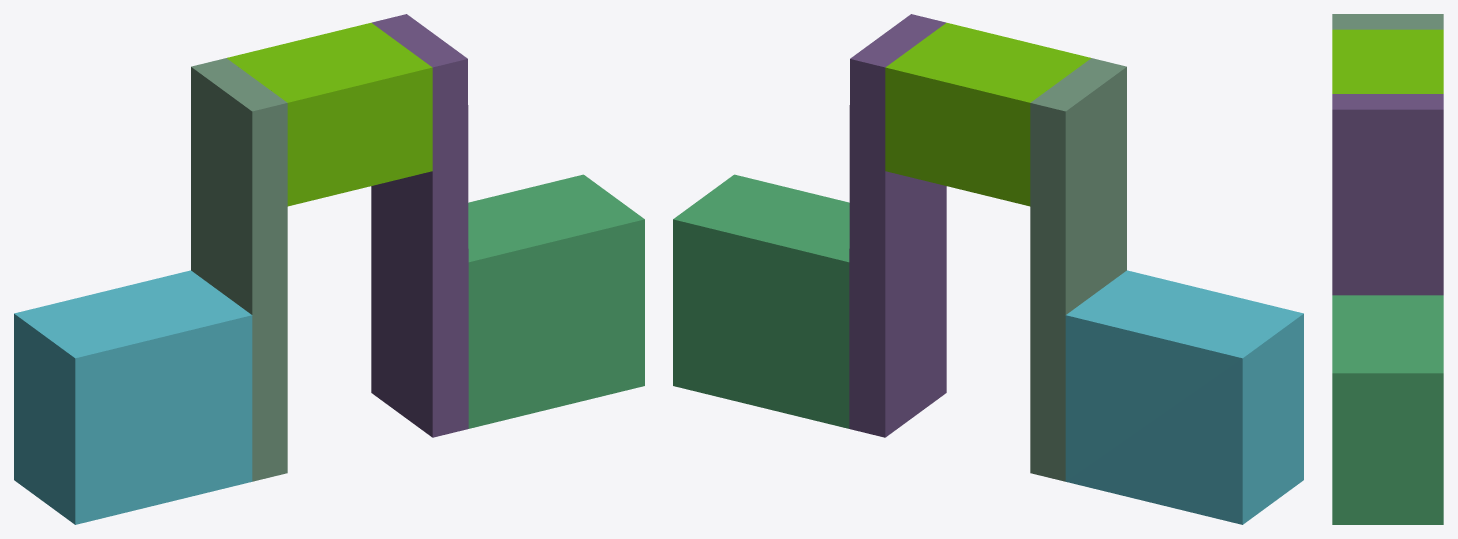
The model's file is board_1_3_canonical.obj.
3 views of the same model, side by side, from view 1: azimuth 30°, elevation 25°; view 2: azimuth 150°, elevation 25°; view 3: azimuth 270°, elevation 25° (orthographic). The views are drawn at different scales.
Parts seen in each view (by area): view 1: geometry_2, geometry_3, geometry_1, geometry_0, geometry_4; view 2: geometry_2, geometry_3, geometry_1, geometry_0, geometry_4; view 3: geometry_3, geometry_1, geometry_4, geometry_0.
Boxes of the visible parts, left/top/right/bottom form: geometry_2: left=14, top=270, right=252, bottom=524; geometry_3: left=468, top=174, right=644, bottom=428; geometry_1: left=371, top=14, right=468, bottom=437; geometry_0: left=191, top=58, right=287, bottom=481; geometry_4: left=227, top=22, right=432, bottom=206; geometry_2: left=1065, top=270, right=1303, bottom=524; geometry_3: left=673, top=174, right=849, bottom=428; geometry_1: left=849, top=14, right=946, bottom=437; geometry_0: left=1030, top=58, right=1126, bottom=481; geometry_4: left=885, top=22, right=1090, bottom=206; geometry_3: left=1332, top=295, right=1443, bottom=524; geometry_1: left=1332, top=94, right=1443, bottom=295; geometry_4: left=1332, top=29, right=1443, bottom=93; geometry_0: left=1332, top=14, right=1443, bottom=29.
Size of the model in its own units: 0.161 by 0.1 by 0.03.
